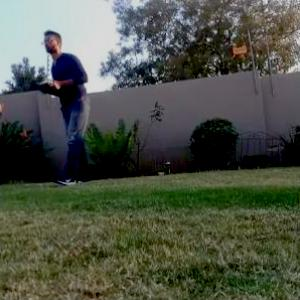follow: (33, 14, 105, 191)
